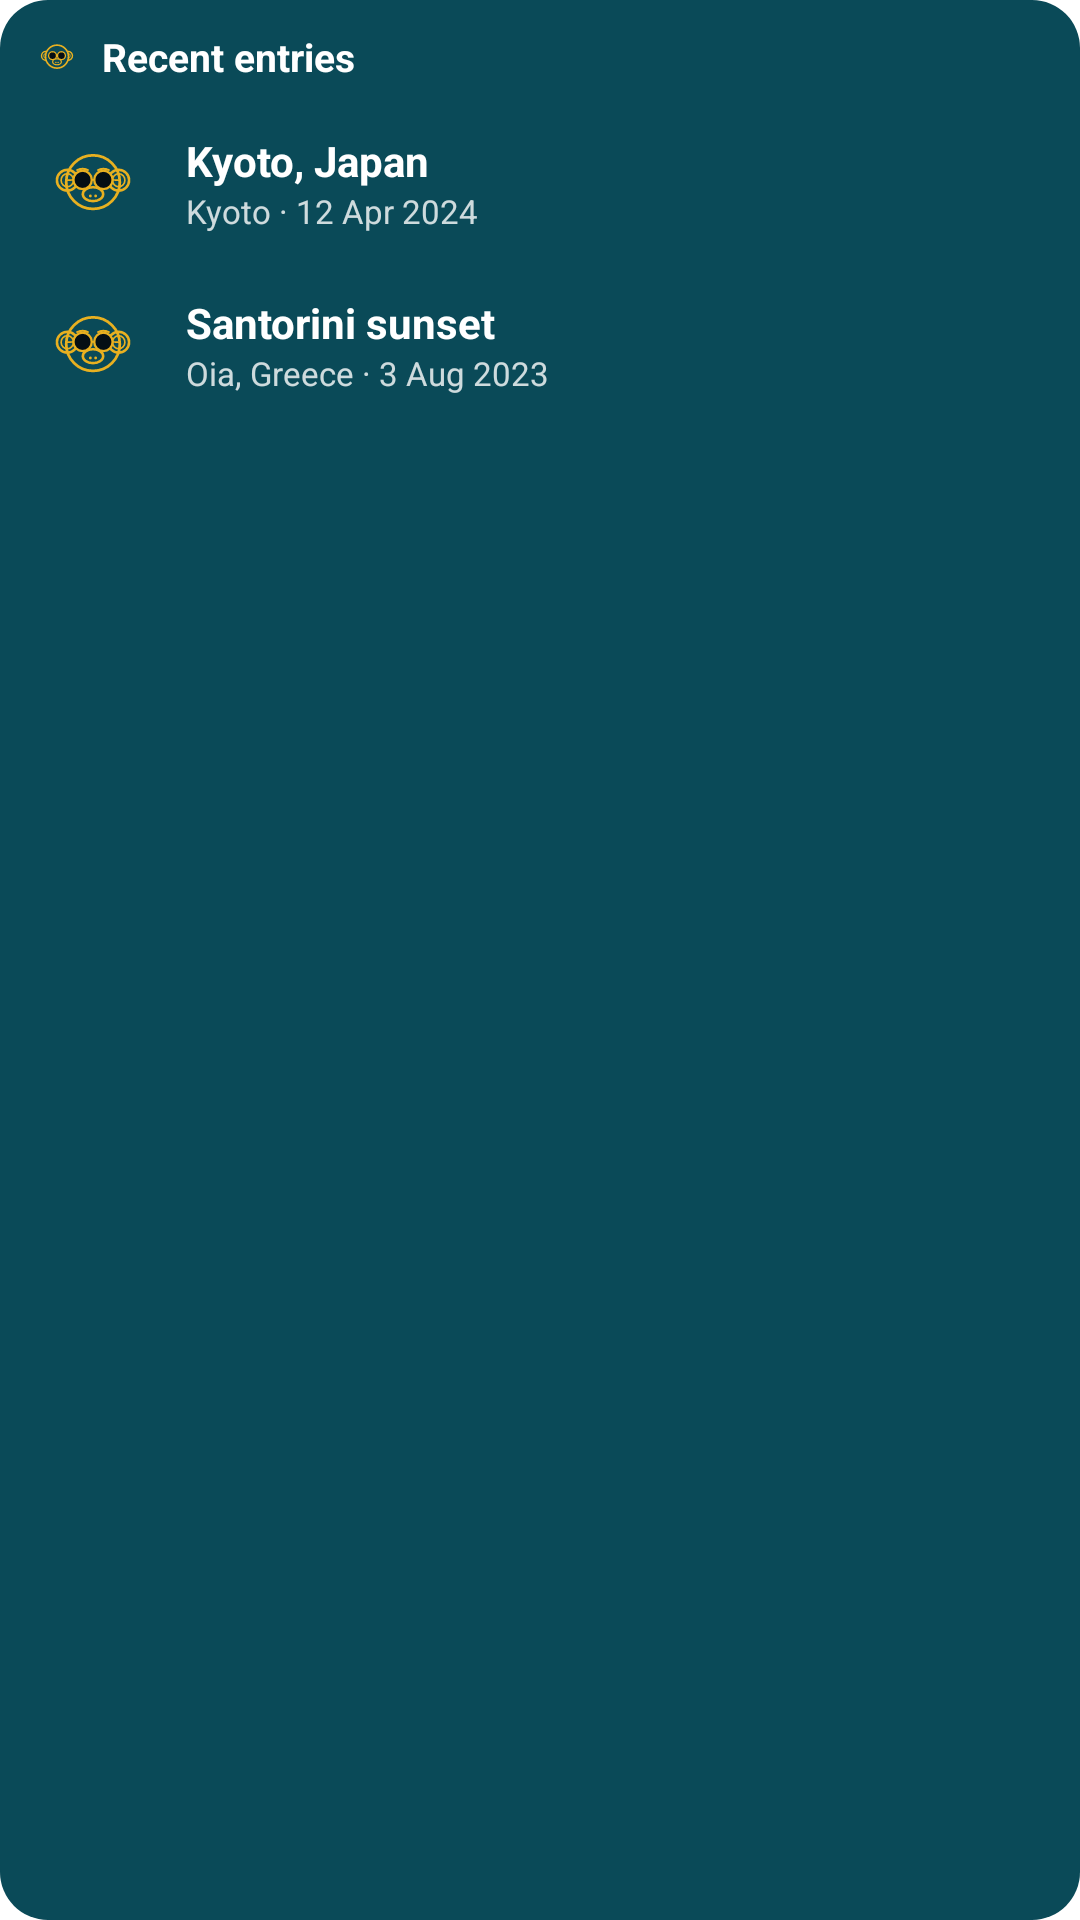

Icon click points for this 1080*1920 phone screenshot, format point (x, y):
macaco widget mark: point (57, 56)
